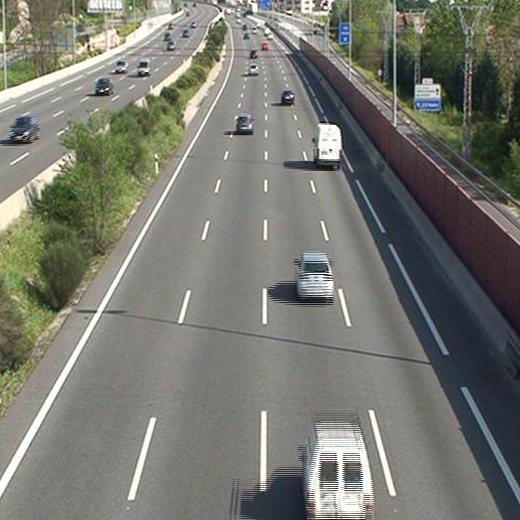car: (295, 252, 334, 298), (236, 114, 253, 132), (280, 90, 295, 105), (247, 50, 257, 59), (248, 65, 258, 74)
van: (300, 422, 376, 520), (313, 124, 341, 166)
